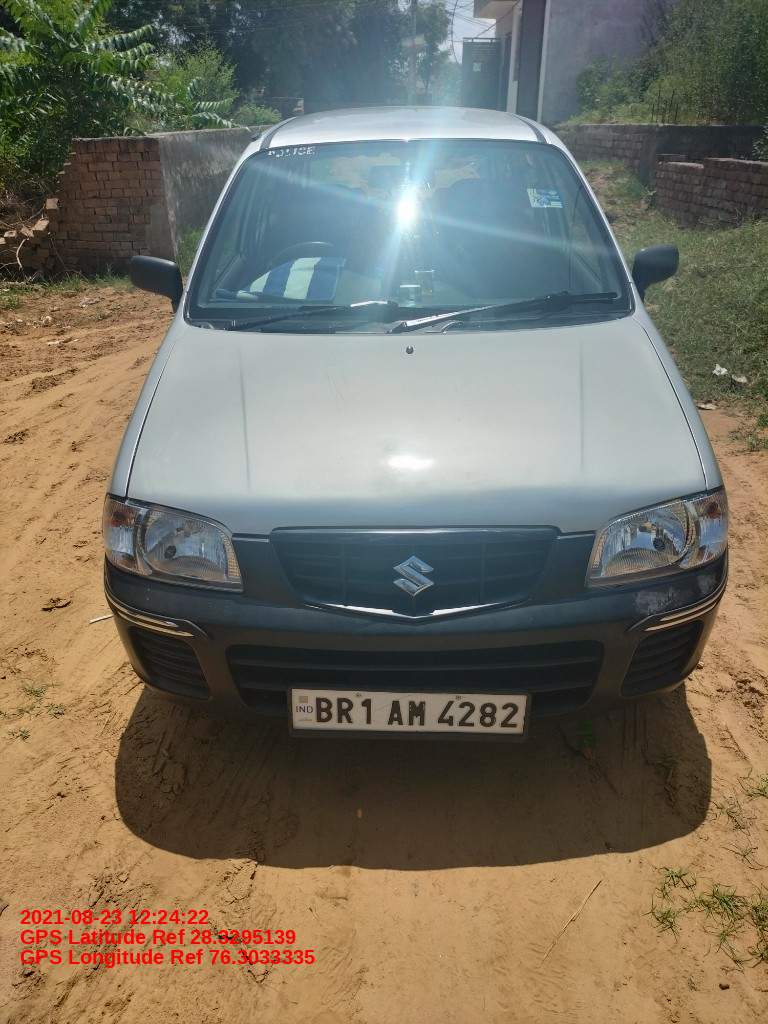Scratched: (623, 570, 726, 620)
